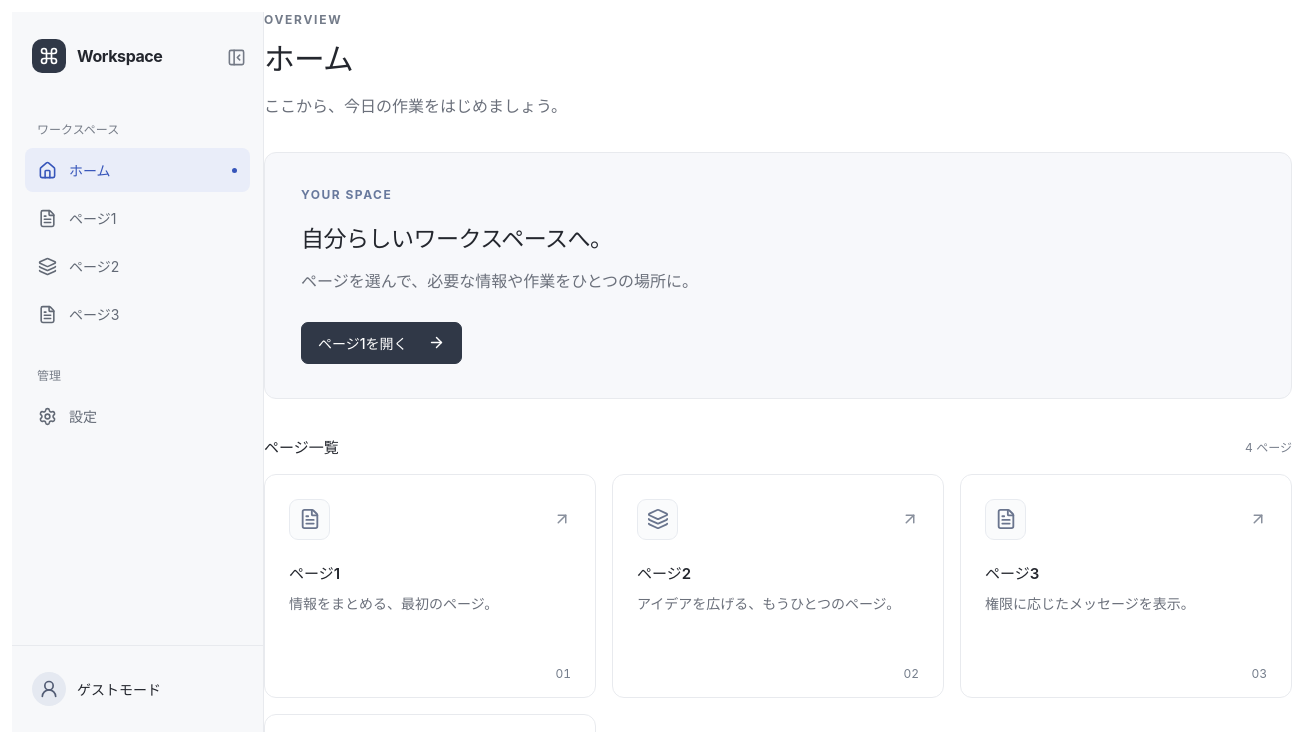
ページ3のメッセージ表示 › 未ログインでもホームとサイドメニューからページ3へ移動できる
Click the link "ページ3": (79, 314) x1=38 y1=304 x2=119 y2=324
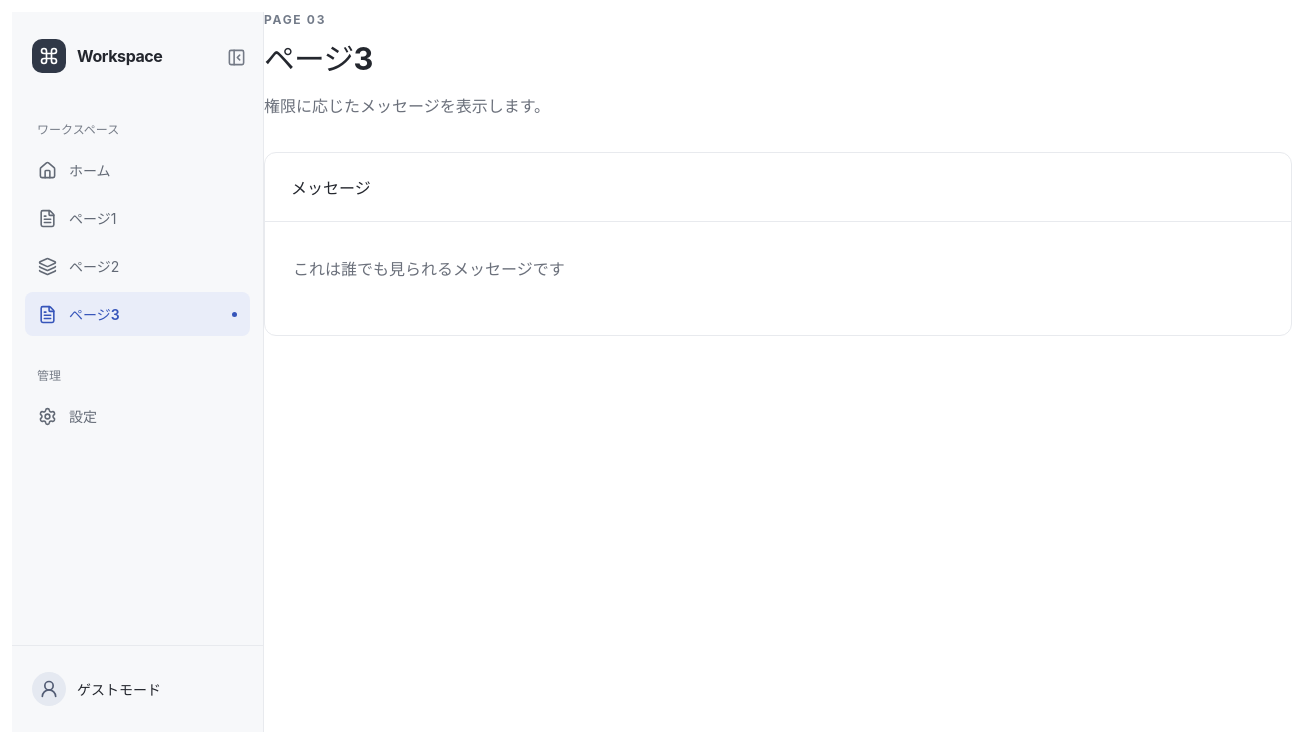
Expected: the text "これは誰でも見られるメッセージです" is shown, x1=293 y1=259 x2=565 y2=279
